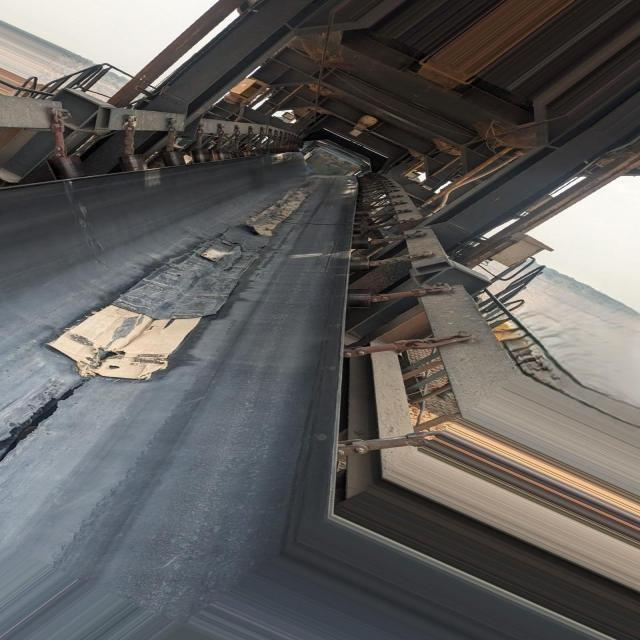Tear: (0, 380, 85, 464)
